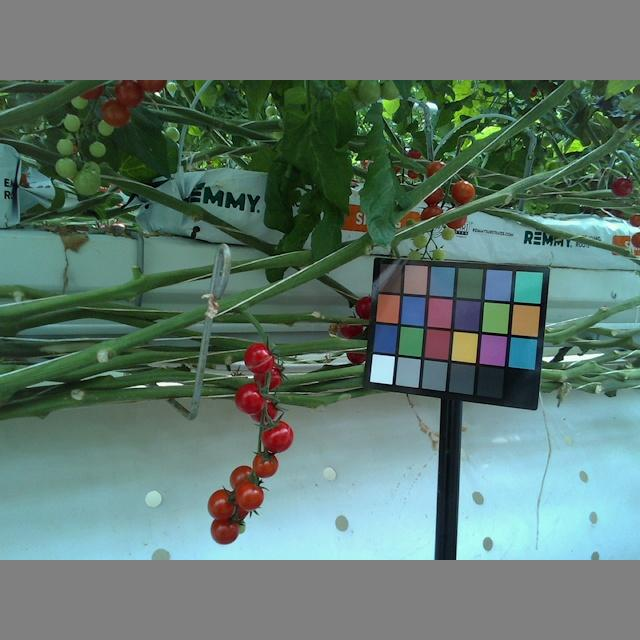green: (72, 167, 100, 195), (116, 82, 143, 110), (53, 157, 76, 179), (63, 112, 81, 132), (88, 140, 107, 158), (57, 137, 73, 157), (95, 120, 111, 137)
pink: (450, 180, 476, 202)
red: (259, 422, 296, 453), (235, 382, 266, 415), (245, 342, 275, 375), (207, 487, 238, 518), (234, 481, 266, 511), (209, 514, 239, 546), (100, 97, 128, 127), (250, 450, 279, 478)
